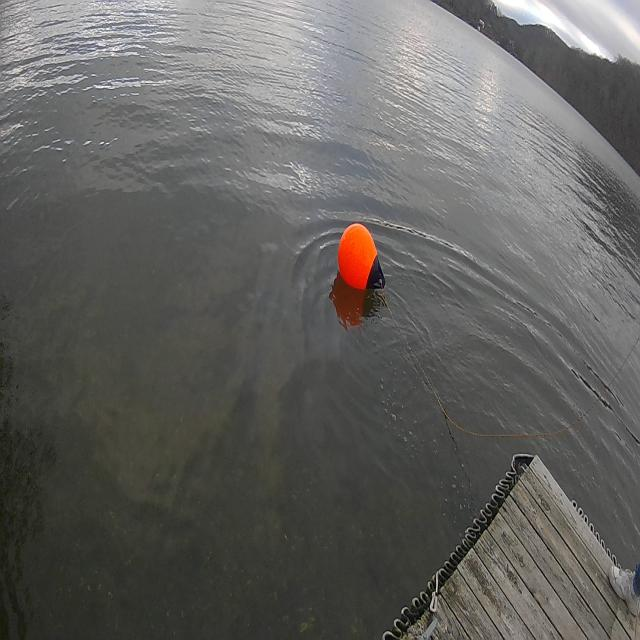Buoy: (334, 216, 386, 310)
